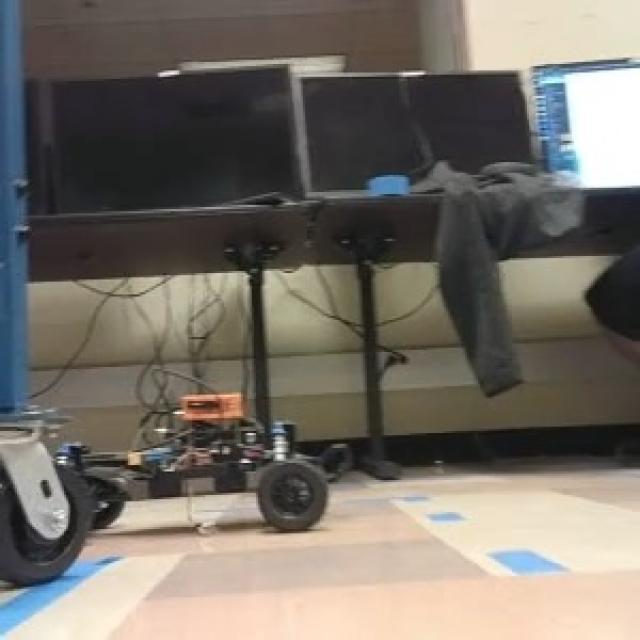obstacle: (75, 391, 328, 534)
